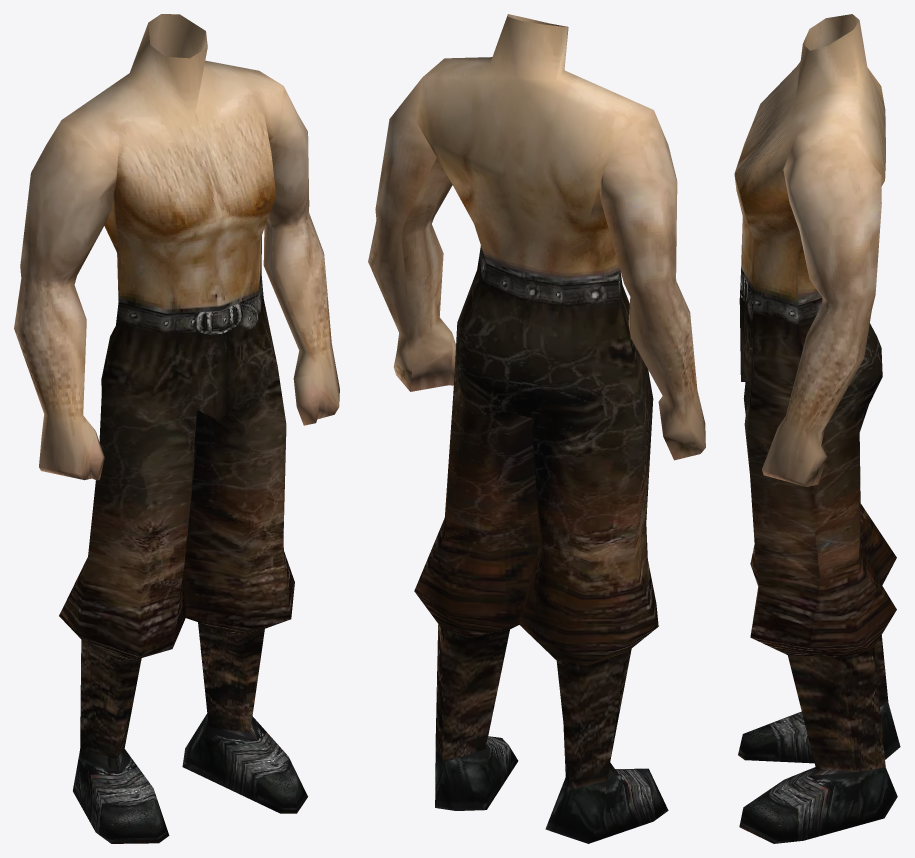
File: KM_PANTS_03.glb
3 renders of one model, left to right at view 1: azimuth 30°, elevation 25°; view 2: azimuth 150°, elevation 25°; view 3: azimuth 270°, elevation 25°, orthographic. The views are drawn at different scales.
Parts seen in each view (by area): view 1: KM_PANTS_03; view 2: KM_PANTS_03; view 3: KM_PANTS_03.
Boxes of the visible parts, x1,y1,x2,y2 form: KM_PANTS_03: (14,14,339,843); KM_PANTS_03: (368,14,705,843); KM_PANTS_03: (734,14,900,843).
Bounding box in the file's own units: 0.6879 × 1.69 × 0.3299.
Materials: 2 (2 with a texture image).
